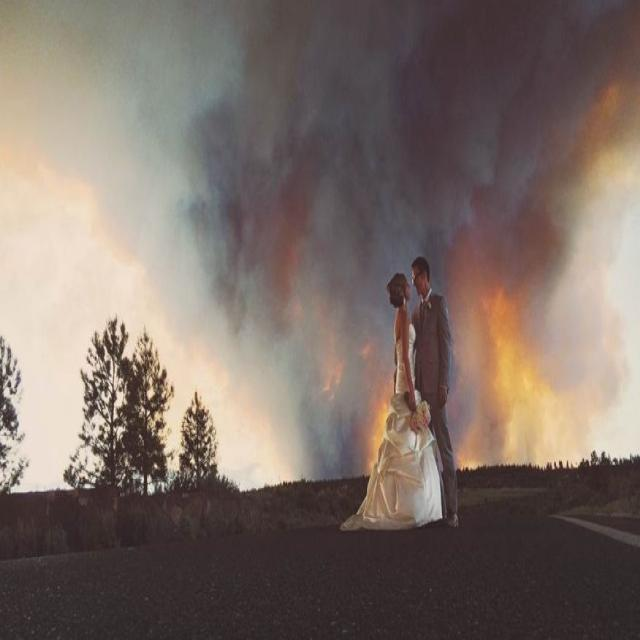Fire: (490, 286, 540, 453)
Smoke: (191, 2, 640, 226), (209, 230, 376, 447)
